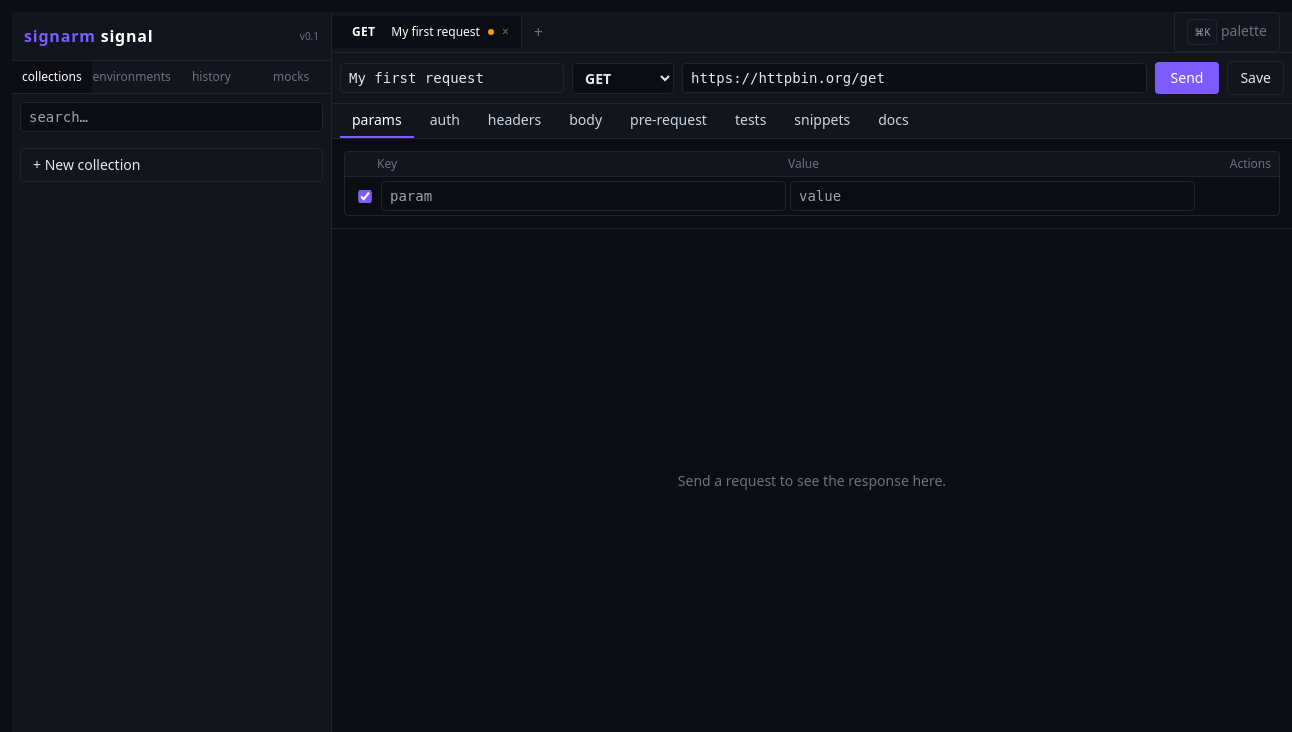
persistence — survives app restart › Save button auto-creates a collection and stores the request
Expected: the button "Save" is shown, [1227,61,1284,95]
Replace the text in the 2nd field with placeholder "api.example.com" with "https://example.test/widgets": (914, 78) [682,63,1147,93]
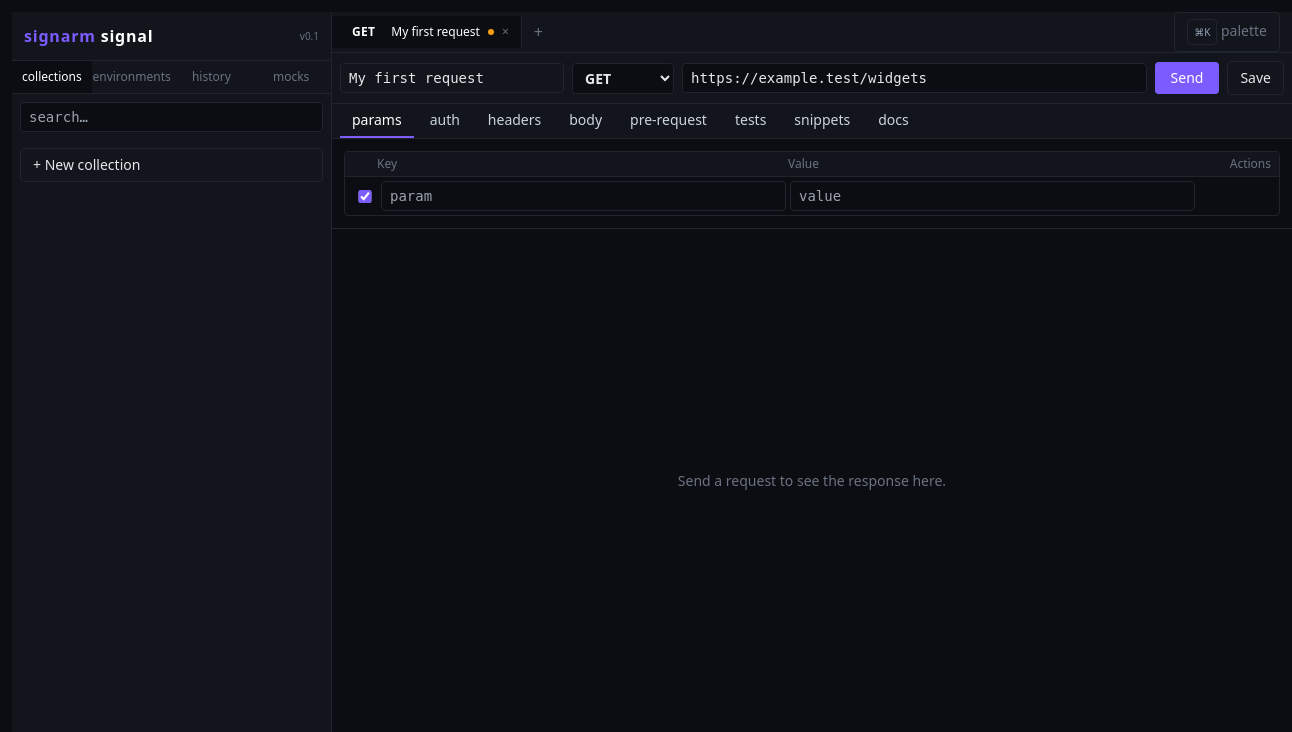
Replace the text in the 1st field with placeholder "request name" with "List widgets": (452, 78) [340,63,564,93]
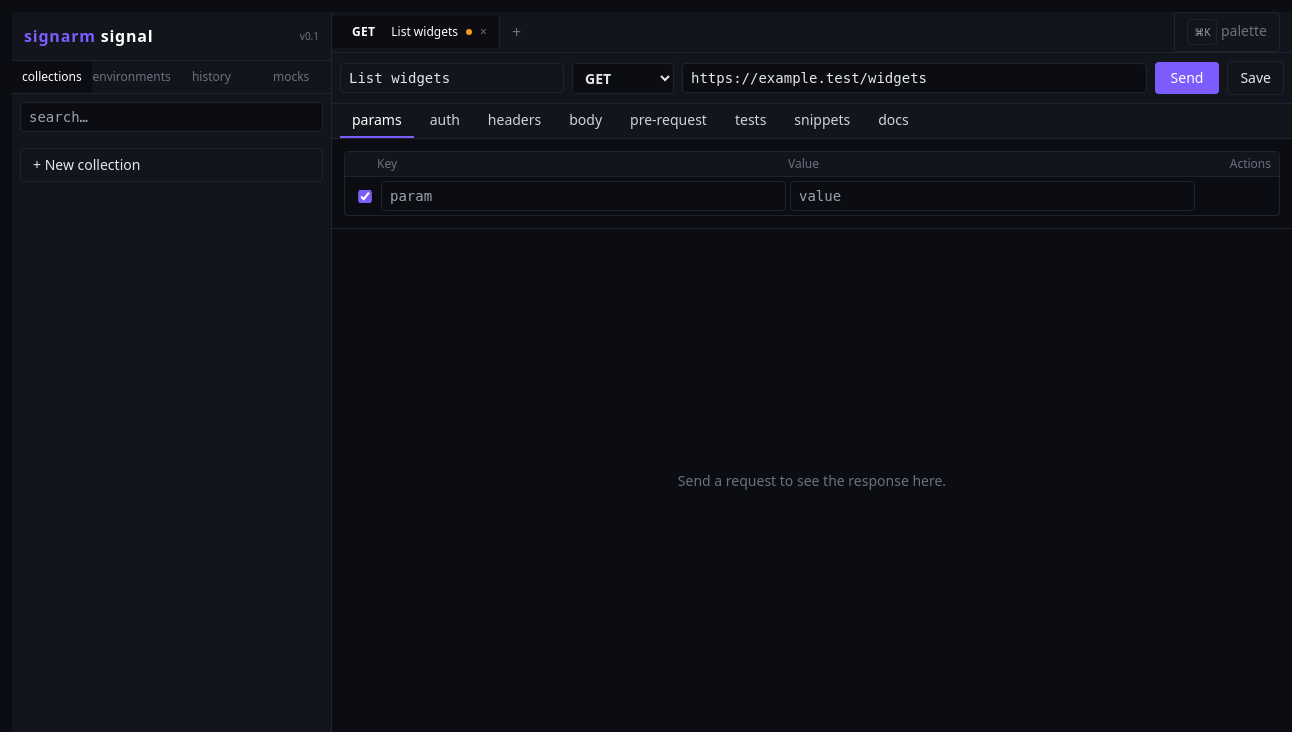
Click the button "Save": (1256, 78) [1227,61,1284,95]
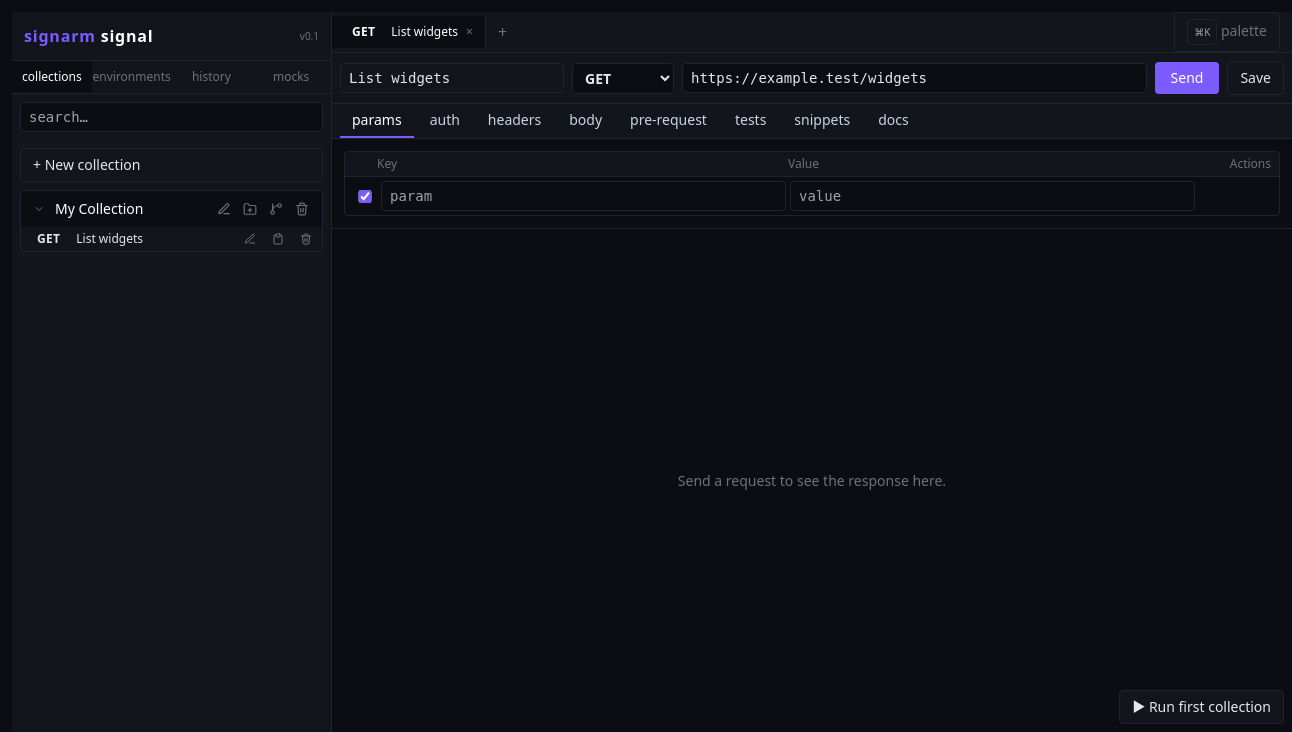
Now the text "My Collection" is shown, box [55,199,143,218]
Now the text "List widgets" below "My Collection" is shown, box [76,230,143,247]
